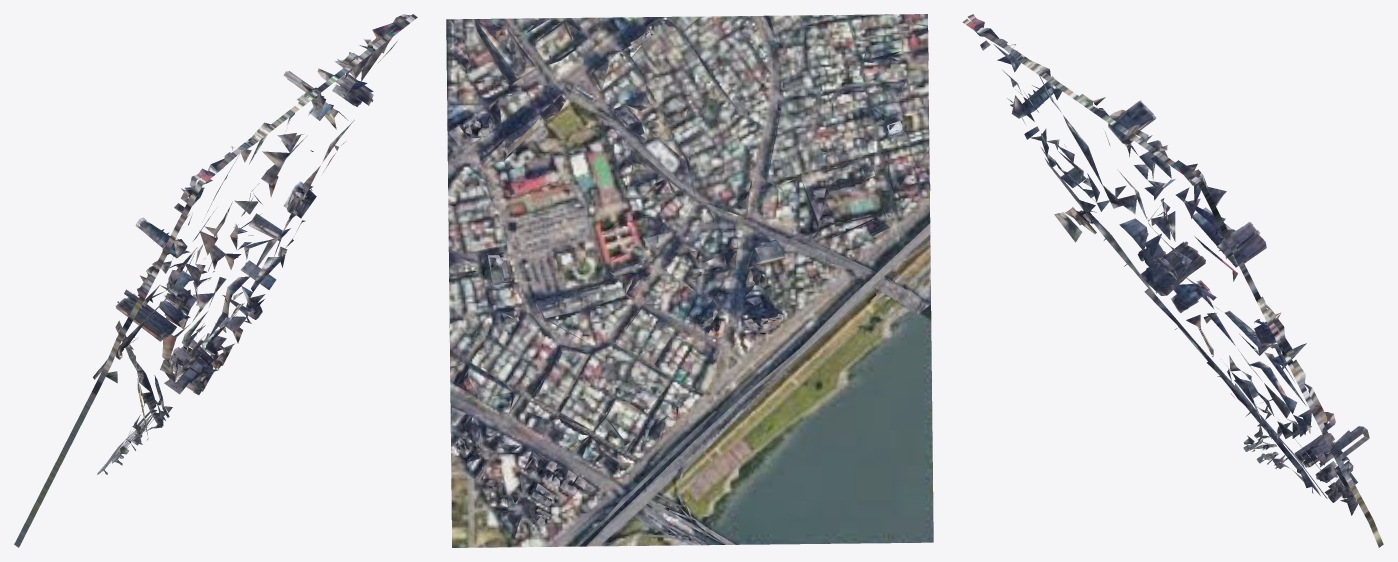
3 views of the same model, side by side, from view 1: azimuth 30°, elevation 25°; view 2: azimuth 150°, elevation 25°; view 3: azimuth 270°, elevation 25° (orthographic). The views are drawn at different scales.
Bounding box in the file's own units: 1223 × 1126 × 1031.
2 materials, 2 textured.
